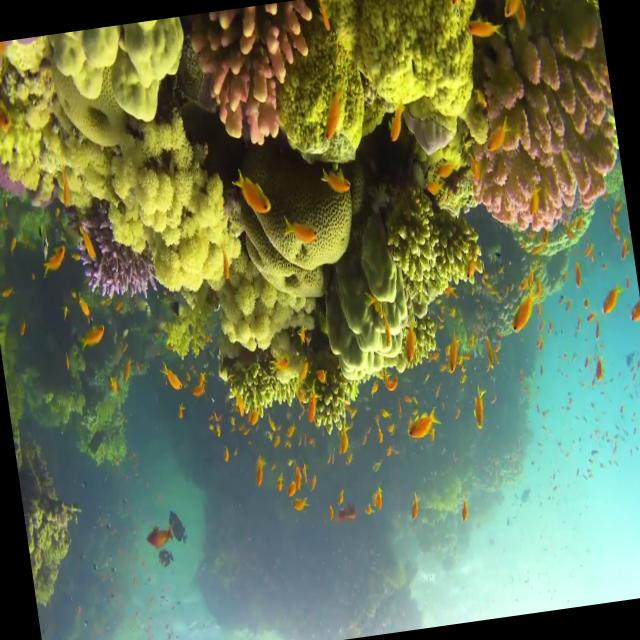fish: (230, 167, 273, 220), (317, 162, 354, 198), (282, 214, 318, 248), (466, 16, 506, 44), (144, 520, 177, 552)
